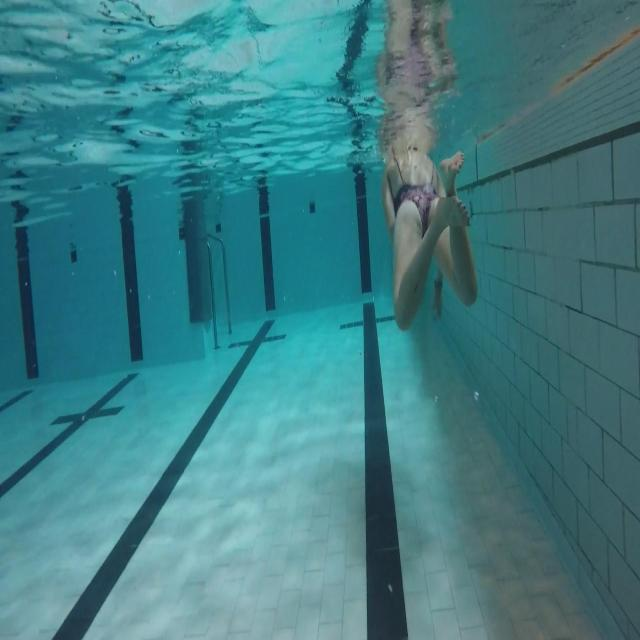human: (374, 0, 478, 331)
